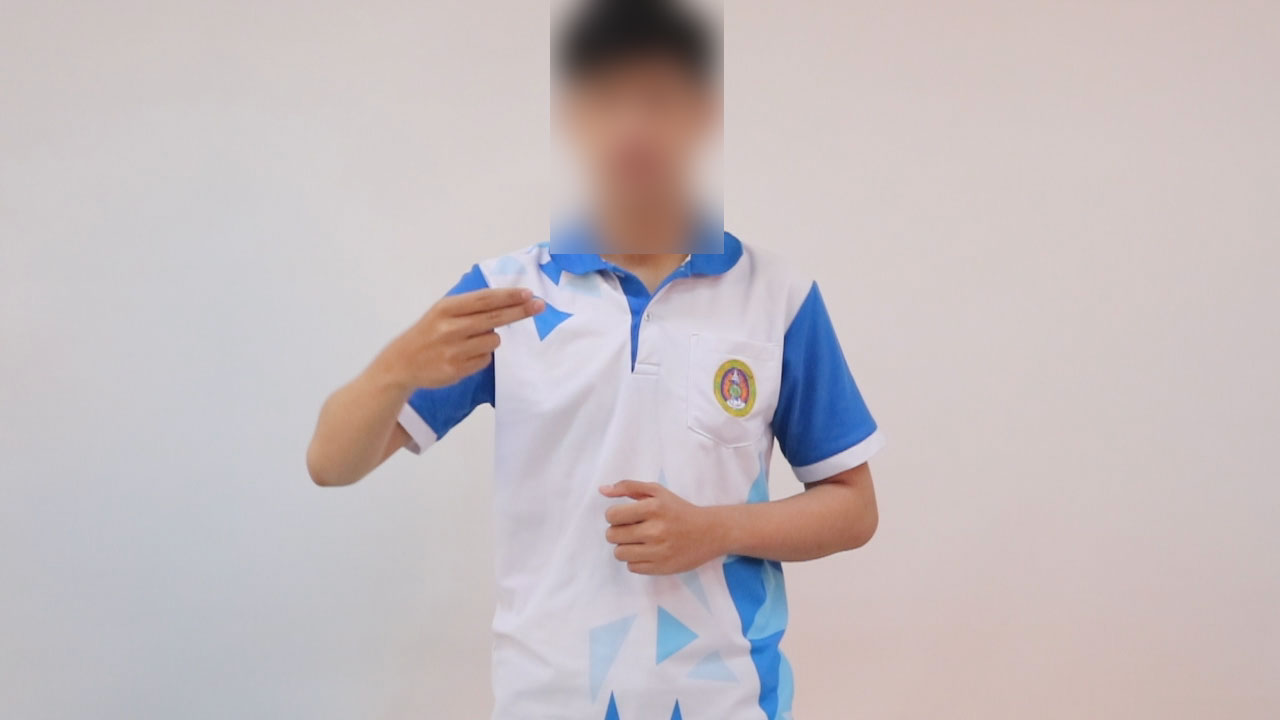hor: (365, 276, 554, 404)
